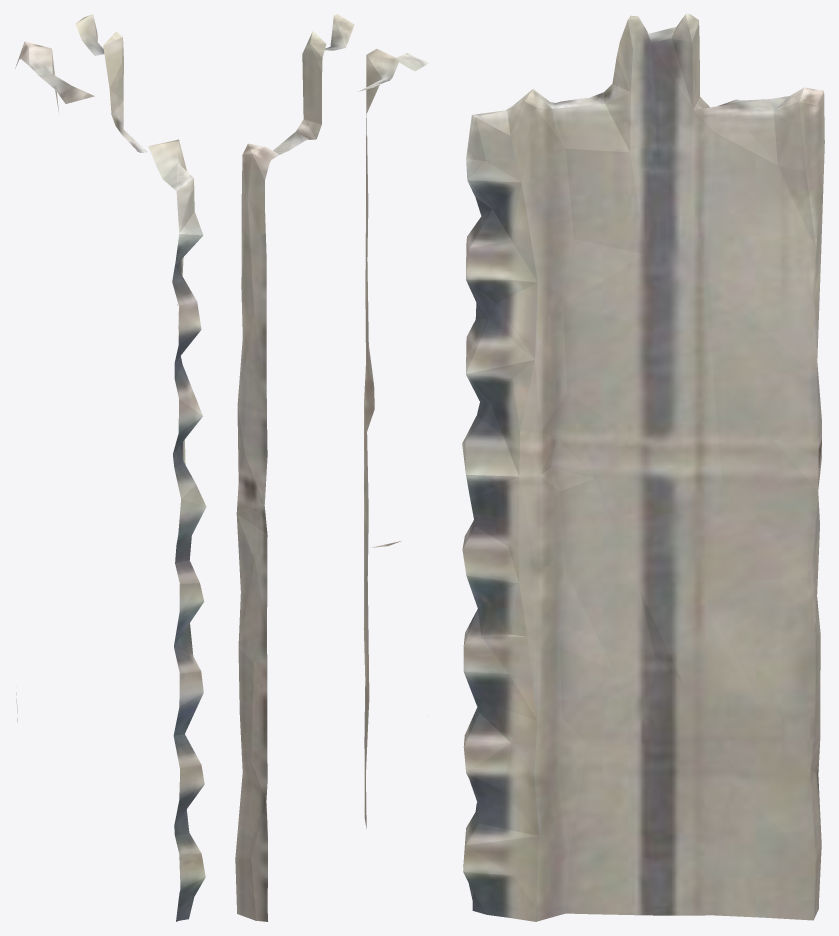
File: Tile__003__001_L20_000050.glb
3 views of the same model, side by side, from view 1: azimuth 30°, elevation 25°; view 2: azimuth 150°, elevation 25°; view 3: azimuth 270°, elevation 25° (orthographic). The views are drawn at different scales.
Parts seen in each view (by area): view 1: root; view 2: root; view 3: root.
Part boxes in pixels (x1=…): root: x1=15, y1=14, x2=206, y2=921; root: x1=235, y1=14, x2=428, y2=921; root: x1=462, y1=14, x2=824, y2=921.
Bounding box in the file's own units: 0.8594 × 20.04 × 7.33.
Materials: 1 (1 with a texture image).
